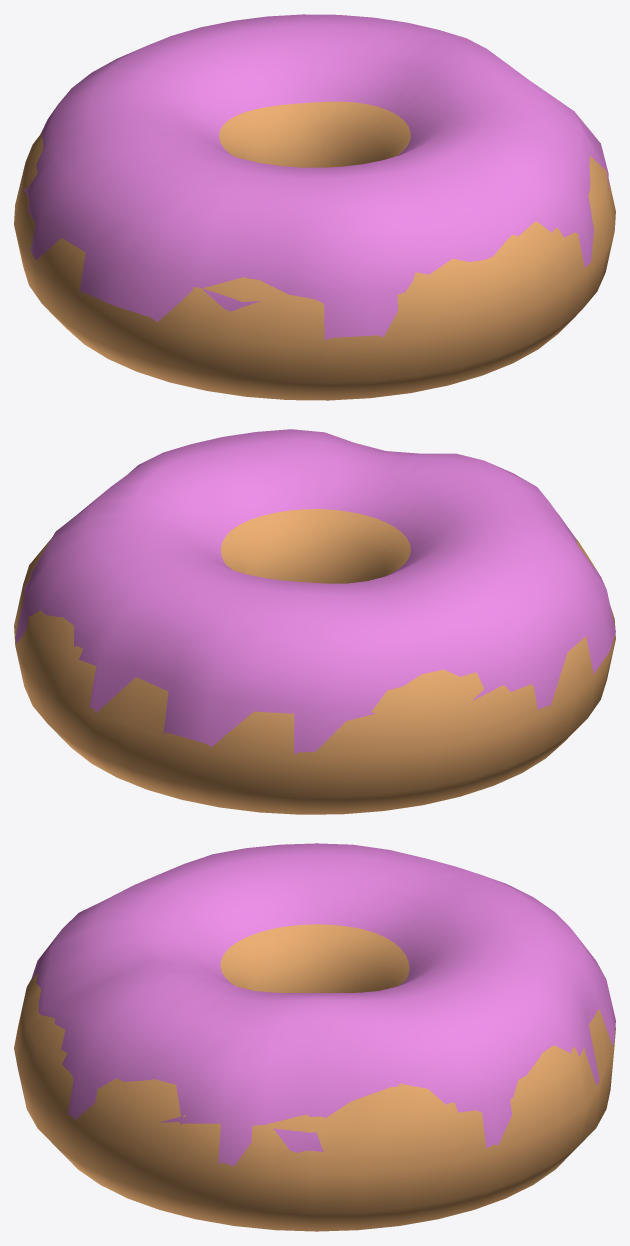
File: donut2.glb
3 renders of one model, top to bottom at view 1: azimuth 30°, elevation 25°; view 2: azimuth 150°, elevation 25°; view 3: azimuth 270°, elevation 25°, orthographic.
Visible parts, largest first — view 1: Icing, DonutBase; view 2: Icing, DonutBase; view 3: Icing, DonutBase.
Boxes of the visible parts, x1=… form: Icing: x1=23, y1=14, x2=608, y2=340; DonutBase: x1=14, y1=101, x2=615, y2=400; Icing: x1=15, y1=429, x2=615, y2=754; DonutBase: x1=14, y1=509, x2=615, y2=814; Icing: x1=31, y1=843, x2=615, y2=1166; DonutBase: x1=14, y1=924, x2=615, y2=1231.
Bounding box in the file's own units: 0.0996 × 0.0372 × 0.099.
